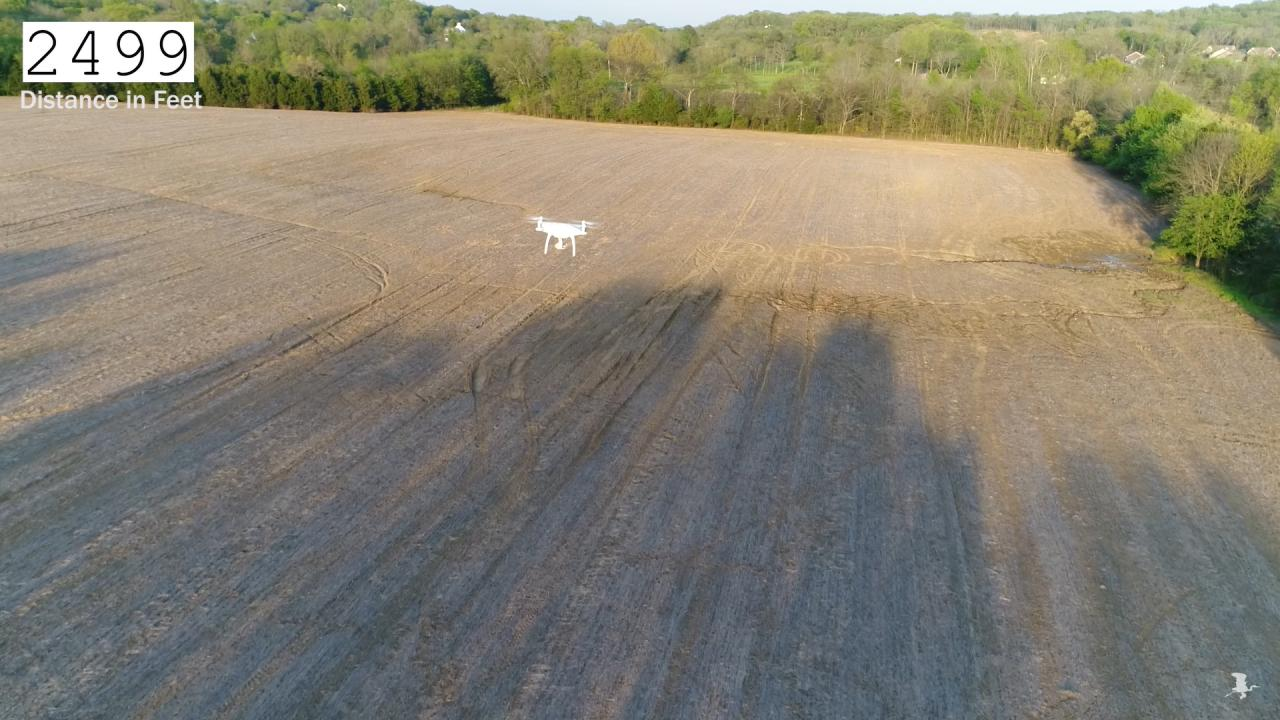Drone: (519, 209, 608, 262)
